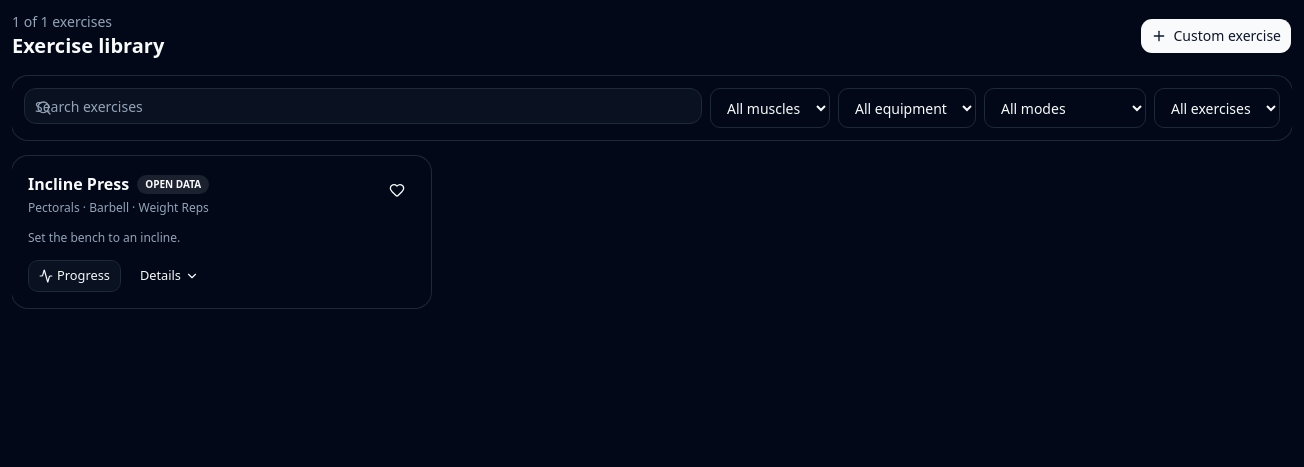
Scenario: ExerciseLibrary › searches imported muscle metadata and shows instructions with attribution
Type "triceps" into the field with placeholder "Search exercises" at point(363, 106), box x1=24 y1=88 x2=702 y2=124
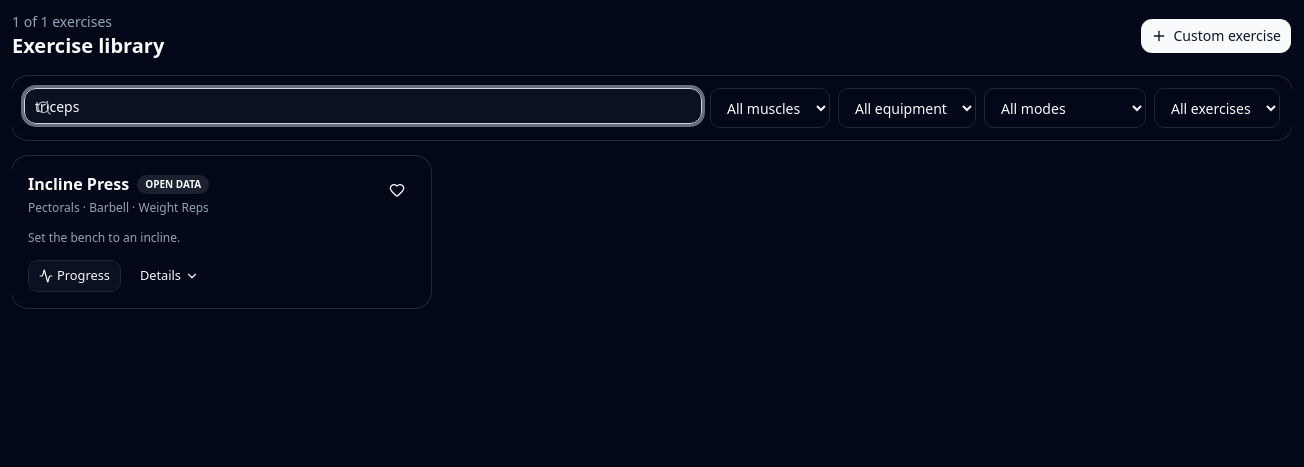
Expected: the heading "Incline Press" is shown, x1=28 y1=172 x2=129 y2=196
Expected: the text "OPEN DATA" is shown, x1=137 y1=174 x2=209 y2=194
Click the button "Details" at point(169, 276), box x1=129 y1=260 x2=210 y2=292
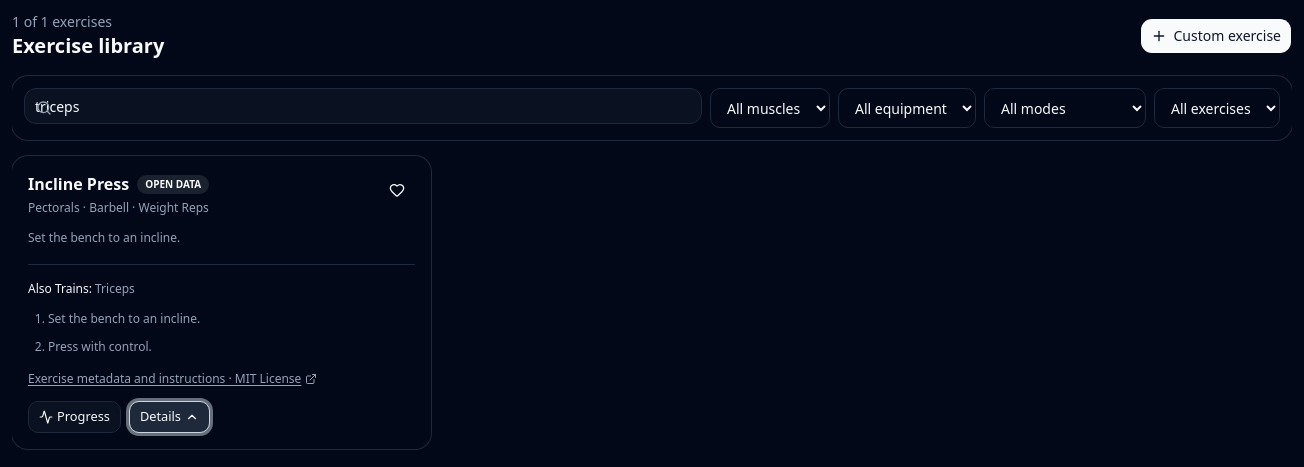
Result: the list item "Press with control." is shown at x1=48 y1=338 x2=152 y2=355
